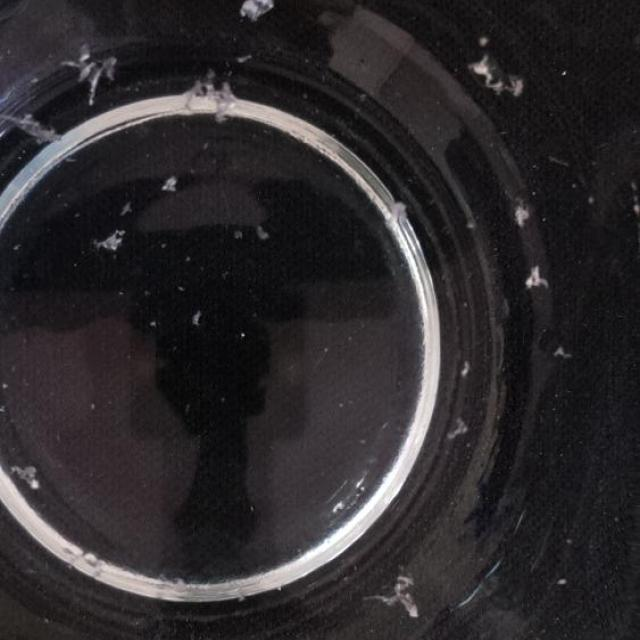fiber: (184, 52, 260, 132), (465, 53, 526, 114), (8, 104, 68, 162), (67, 44, 118, 109), (381, 572, 425, 626), (10, 441, 49, 497), (505, 193, 541, 237), (233, 0, 281, 31), (385, 193, 413, 237), (152, 167, 184, 198), (101, 226, 131, 258), (528, 261, 550, 303), (448, 408, 468, 450)
